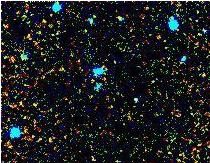star: (0, 45, 26, 75)
